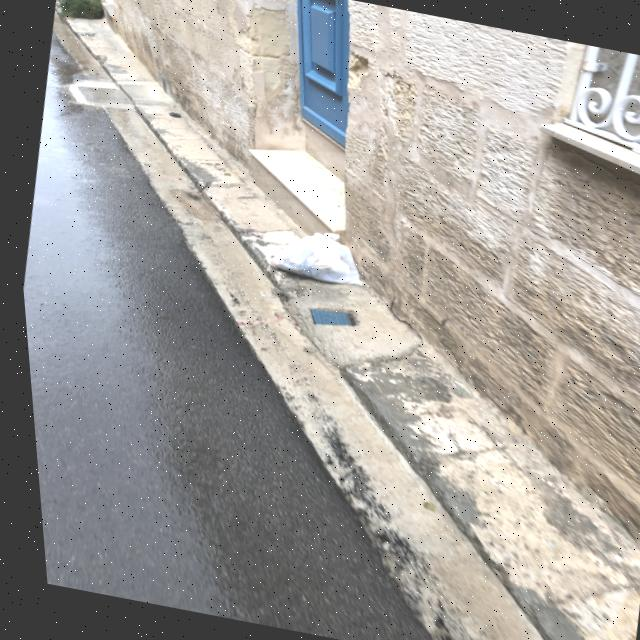Organic Waste -White Bag-: (247, 216, 370, 296)
